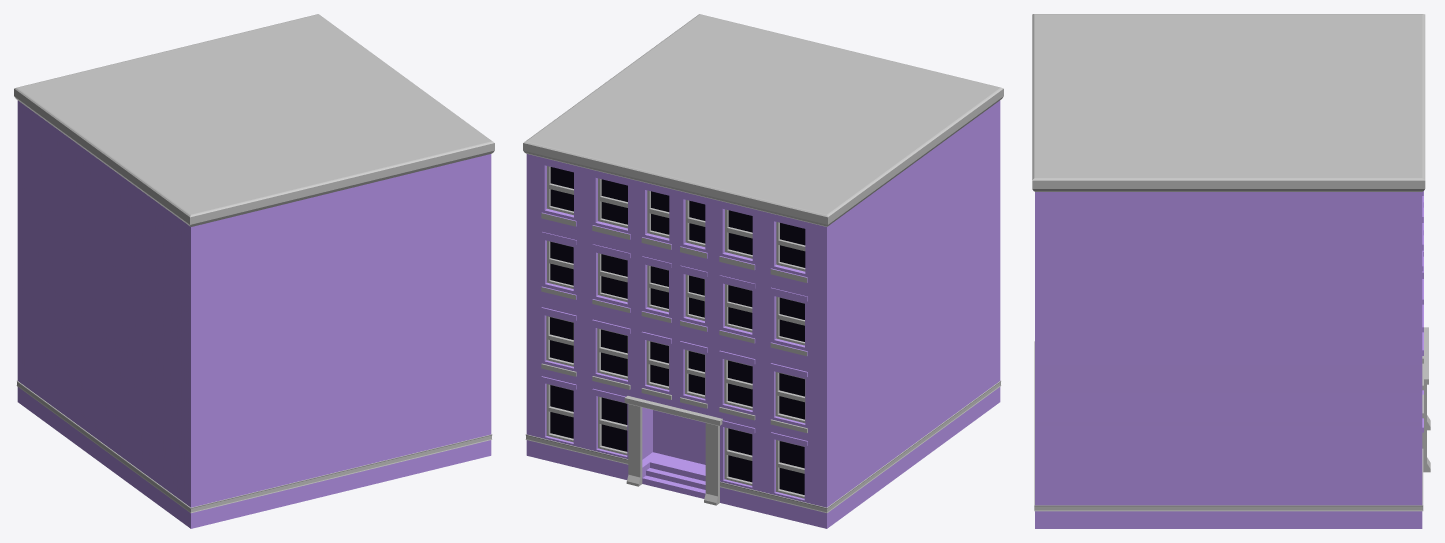
Rendered from brick_building.obj.
3 renders of one model, left to right at view 1: azimuth 30°, elevation 25°; view 2: azimuth 150°, elevation 25°; view 3: azimuth 270°, elevation 25°, orthographic. The views are drawn at different scales.
Visible parts, largest first — view 1: Cube; view 2: Cube; view 3: Cube.
Boxes of the visible parts, bbox=[...] form: Cube: bbox=[14, 14, 494, 528]; Cube: bbox=[523, 14, 1003, 528]; Cube: bbox=[1032, 14, 1430, 528].
Bounding box in the file's own units: 6.09 × 6 × 6.17.
